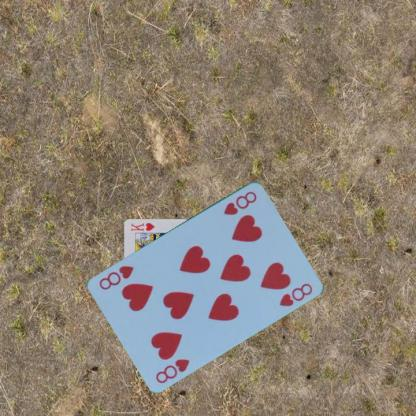8h: (153, 355, 191, 384), (221, 188, 258, 216)
